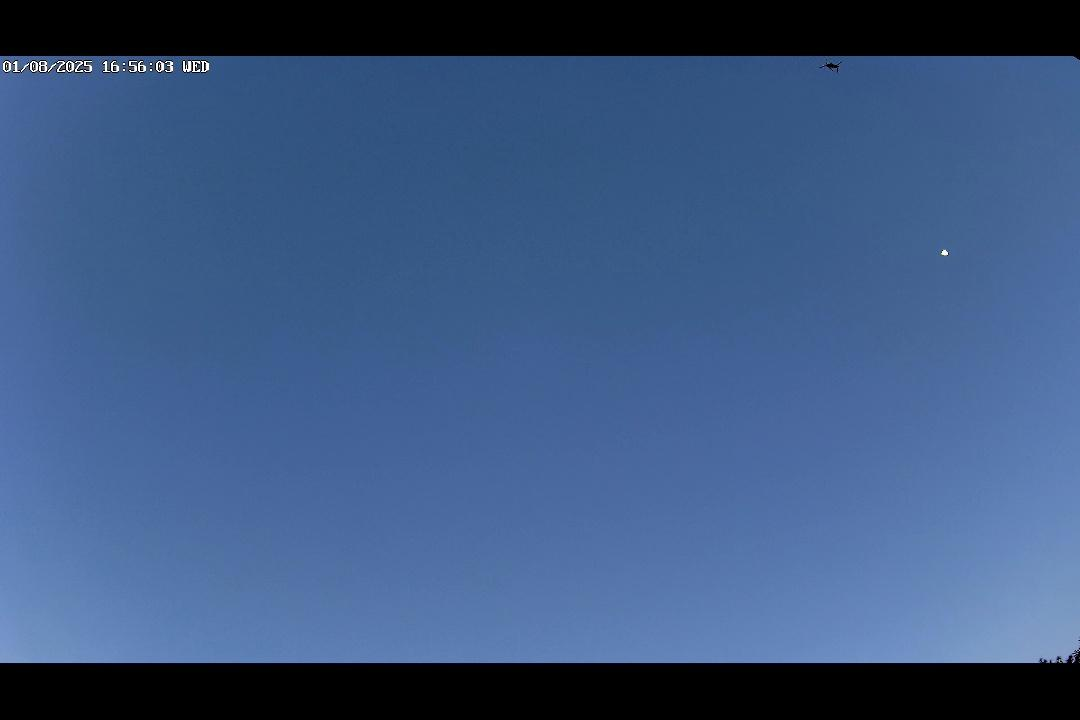WildLife: (816, 57, 850, 80)
